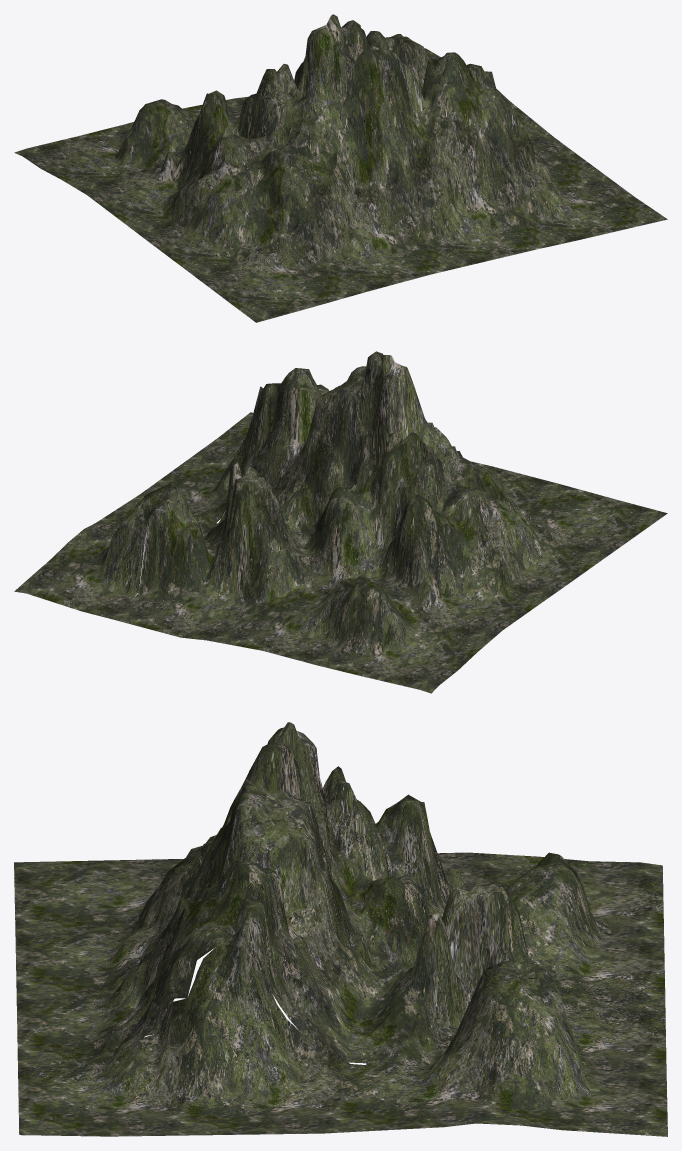
Rendered from Shan1.obj.
3 renders of one model, top to bottom at view 1: azimuth 30°, elevation 25°; view 2: azimuth 150°, elevation 25°; view 3: azimuth 270°, elevation 25°, orthographic. The views are drawn at different scales.
Parts seen in each view (by area): view 1: Procedu001; view 2: Procedu001; view 3: Procedu001.
Boxes of the visible parts, x1,y1,x2,y2 form: Procedu001: (14, 14, 667, 322); Procedu001: (14, 351, 667, 693); Procedu001: (14, 722, 667, 1136).
Size of the model in its own units: 142 by 64.11 by 142.
1 material, 1 textured.
